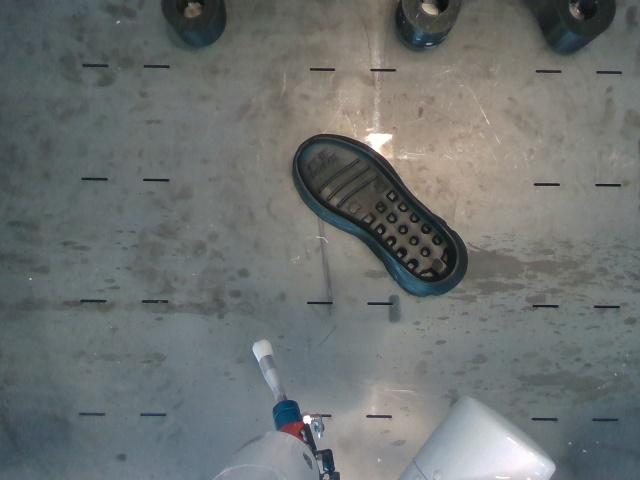shoes: (297, 138, 457, 283)
